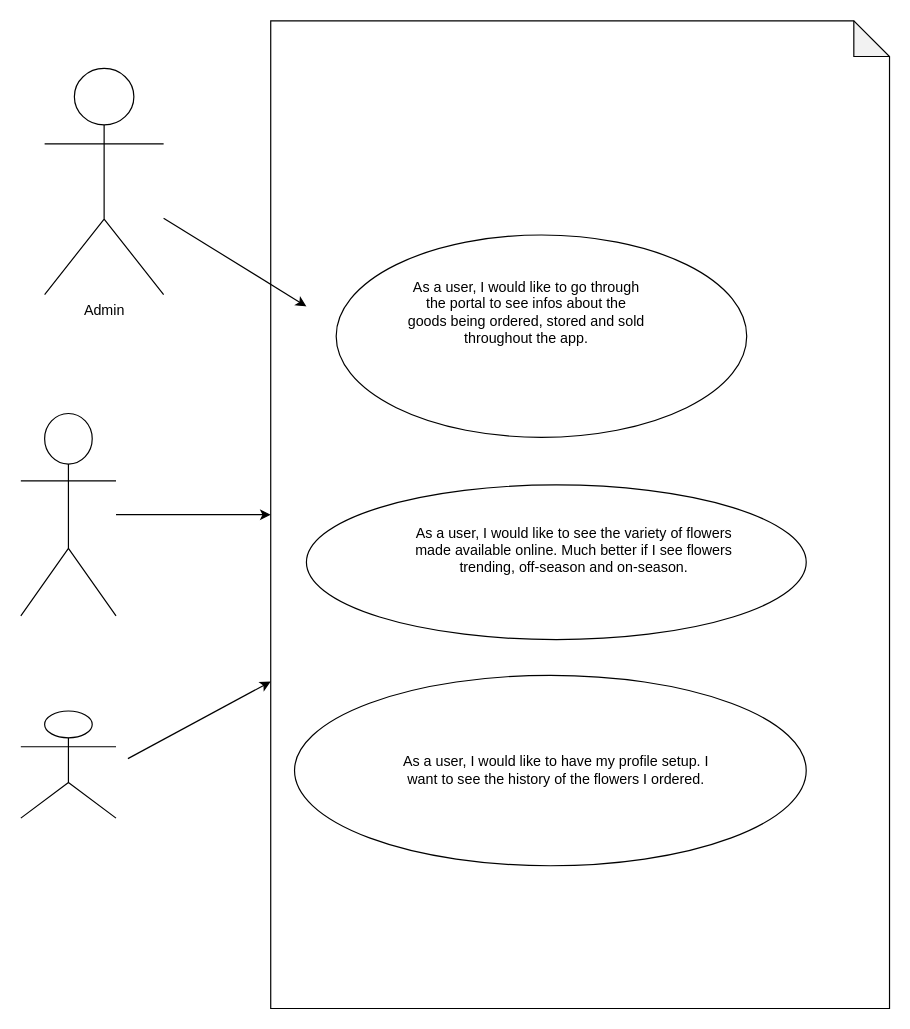
Some shapes in this 910 by 1029 pixel diagram are drawn without their labels. Each missing label, with the box of its shape:
Guest User: (20, 412, 116, 616)
Login User: (20, 710, 116, 818)
